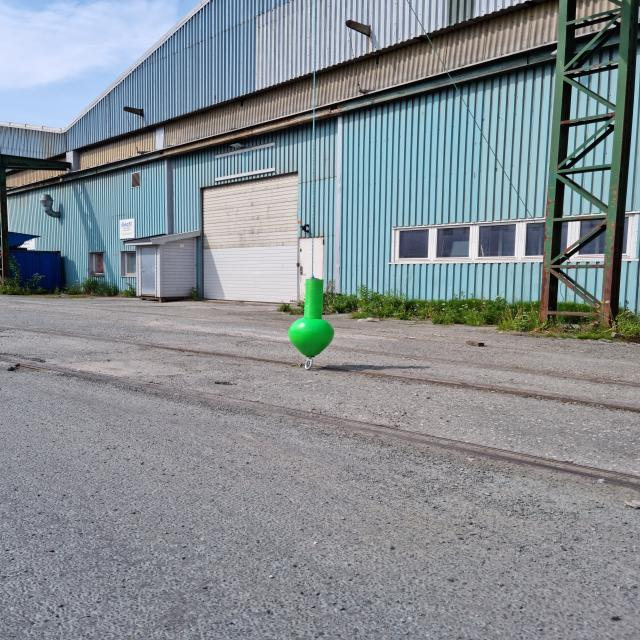green: (288, 278, 334, 357)
